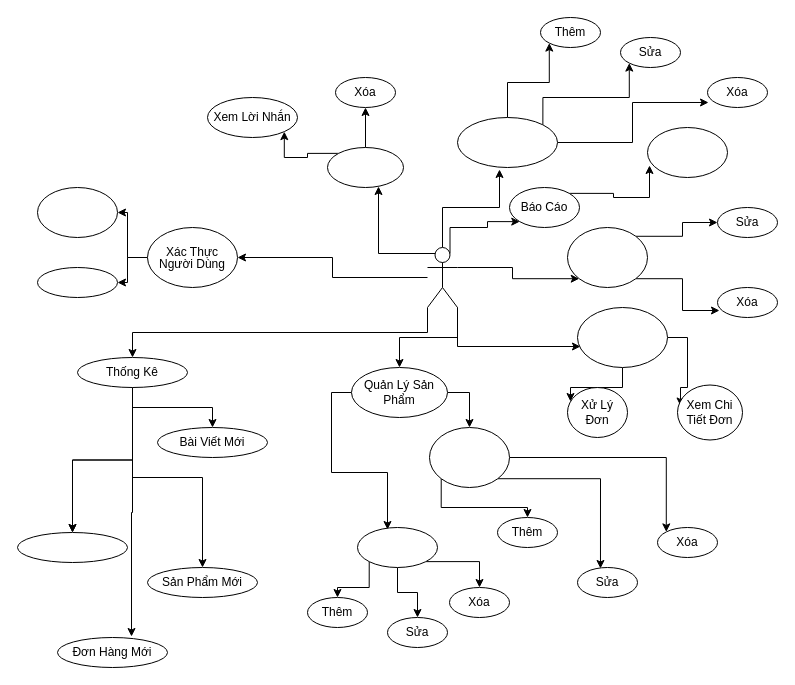
The diagram is 795 pixels wide and 685 high, and some of its shapes have lost their labels. Here are the shapes that lost their labels. From the top down, the box of each, then its label:
(456, 116, 558, 168): Quản Lý Tin Tức
(646, 126, 728, 178): Báo Cáo Doanh Thu
(326, 146, 404, 188): Quản Lý Liên Hệ
(36, 186, 118, 238): Đăng Nhập
(426, 246, 458, 308): Admin
(566, 226, 648, 288): Quản Lý Khách Hàng
(36, 266, 118, 298): Đăng Xuất
(576, 306, 668, 368): Quản Lý Đơn Hàng
(428, 426, 510, 488): Loại Sản Phẩm
(16, 532, 128, 562): Khách Hàng Mới
(356, 526, 438, 568): Sản Phẩm
